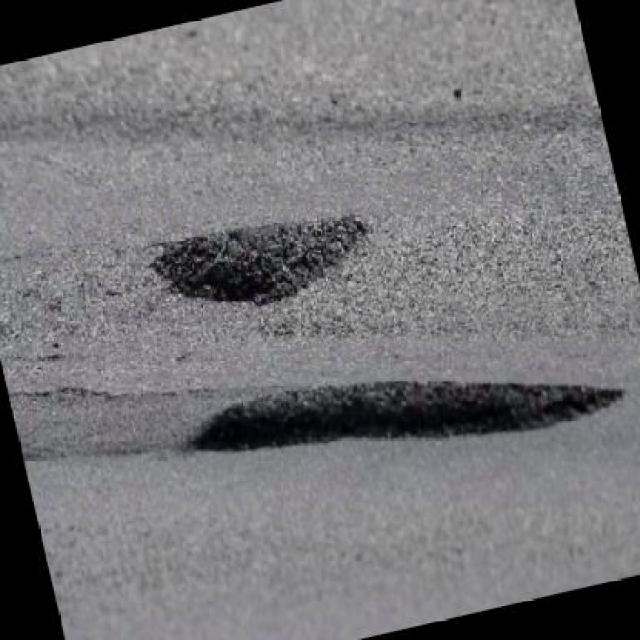pothole1: (178, 312, 632, 511), (143, 190, 382, 330)
